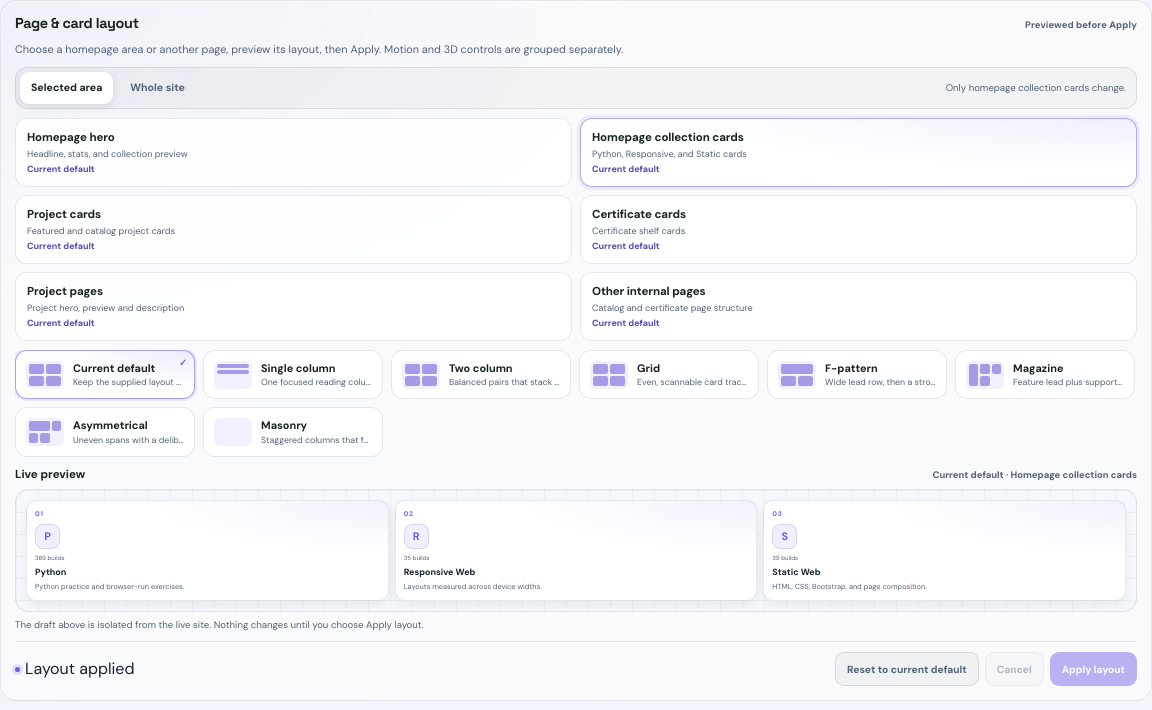
Test case: LayoutStudio › shows only patterns that suit the selected area
Expected: the button "Masonry Staggered columns that follow content height." is shown, [203, 407, 383, 456]
Expected: the button "F-pattern Wide lead row, then a strong left edge." is shown, [767, 350, 947, 399]
Click the button "Certificate cards Certificate shelf cards Current default" at [639, 215], box [580, 195, 1137, 264]
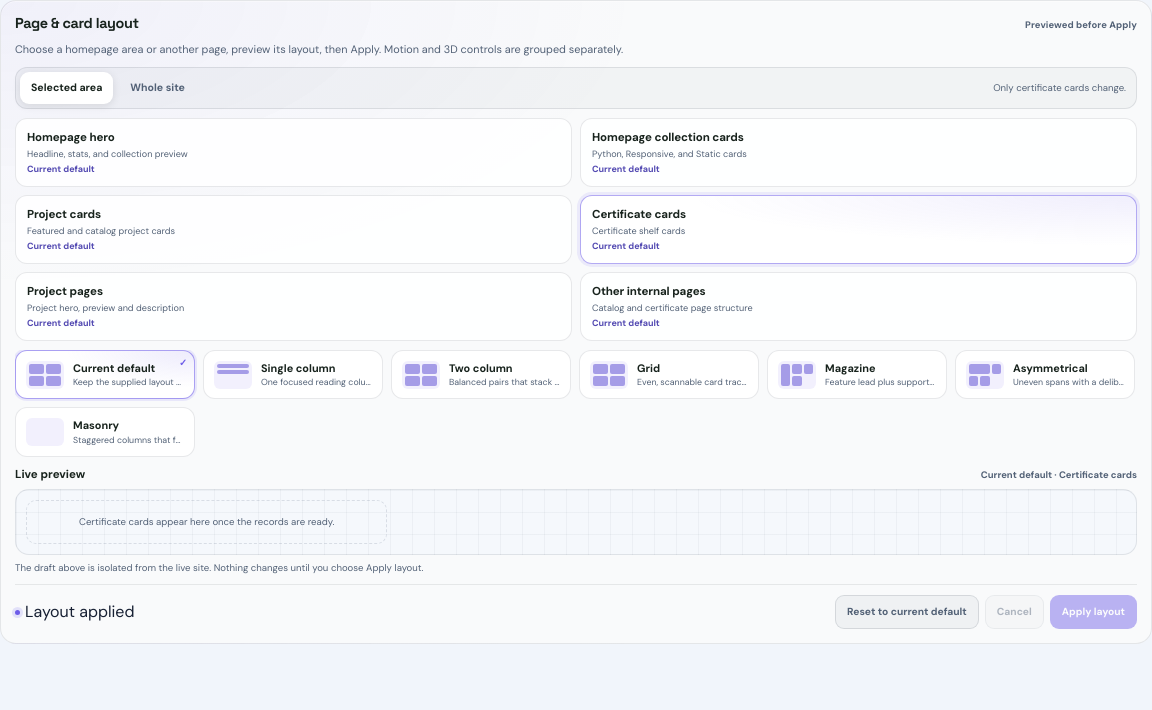
Expected: the button "Masonry Staggered columns that follow content height." is shown, [15, 407, 195, 456]
Expected: the button "Full-screen" is not shown
Click the button "Project pages" at [65, 292], box [15, 272, 572, 341]
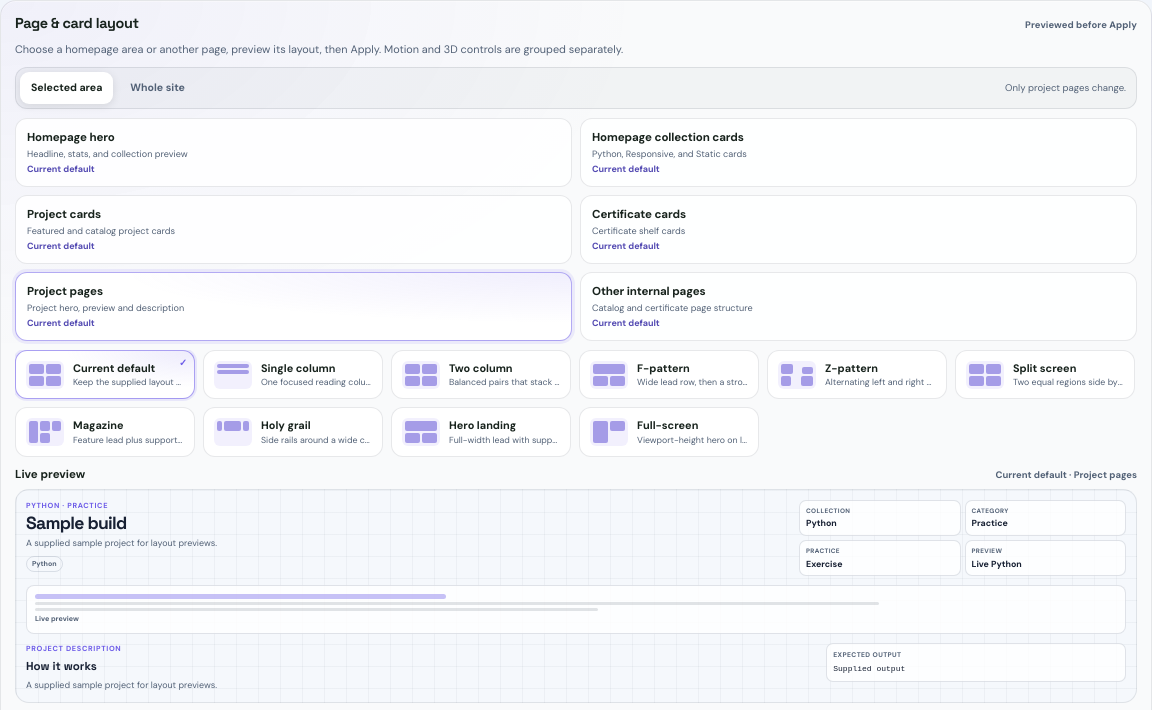
Expected: the button "Full-screen Viewport-height hero on large screens." is shown, [579, 407, 759, 456]
Expected: the button "Masonry" is gone
